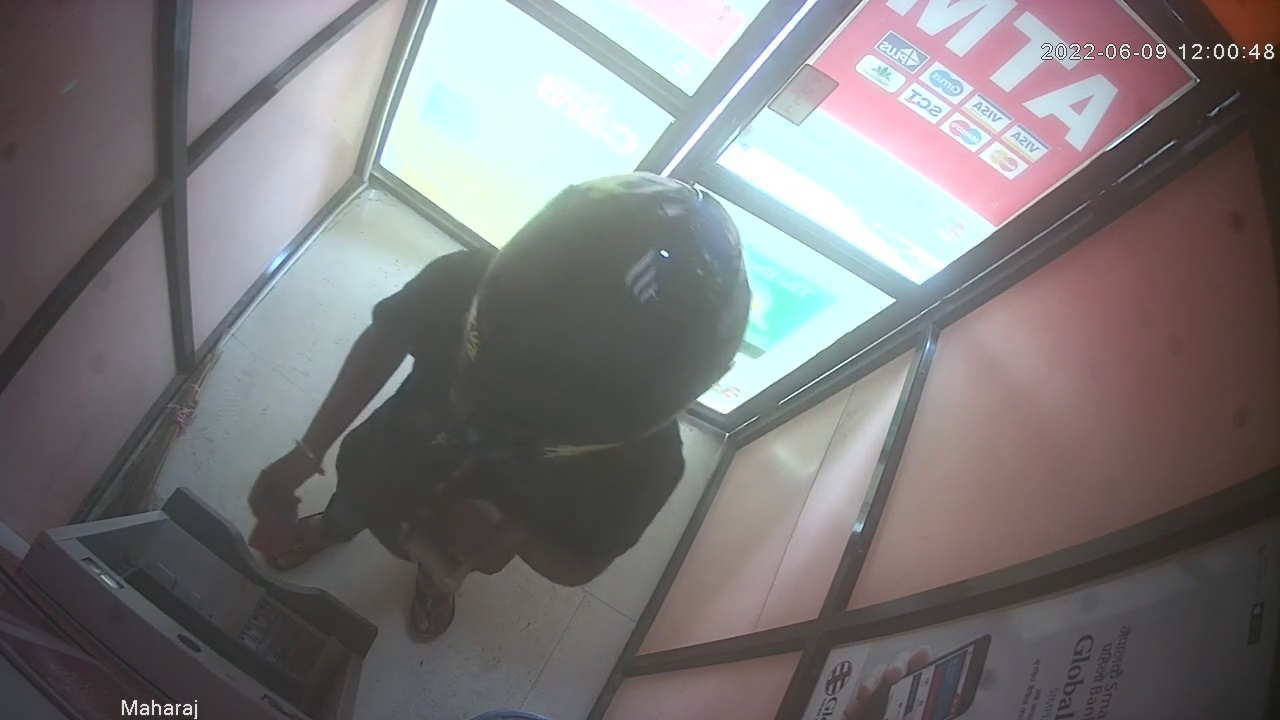helmet: (444, 170, 747, 468)
person: (247, 169, 754, 643)
